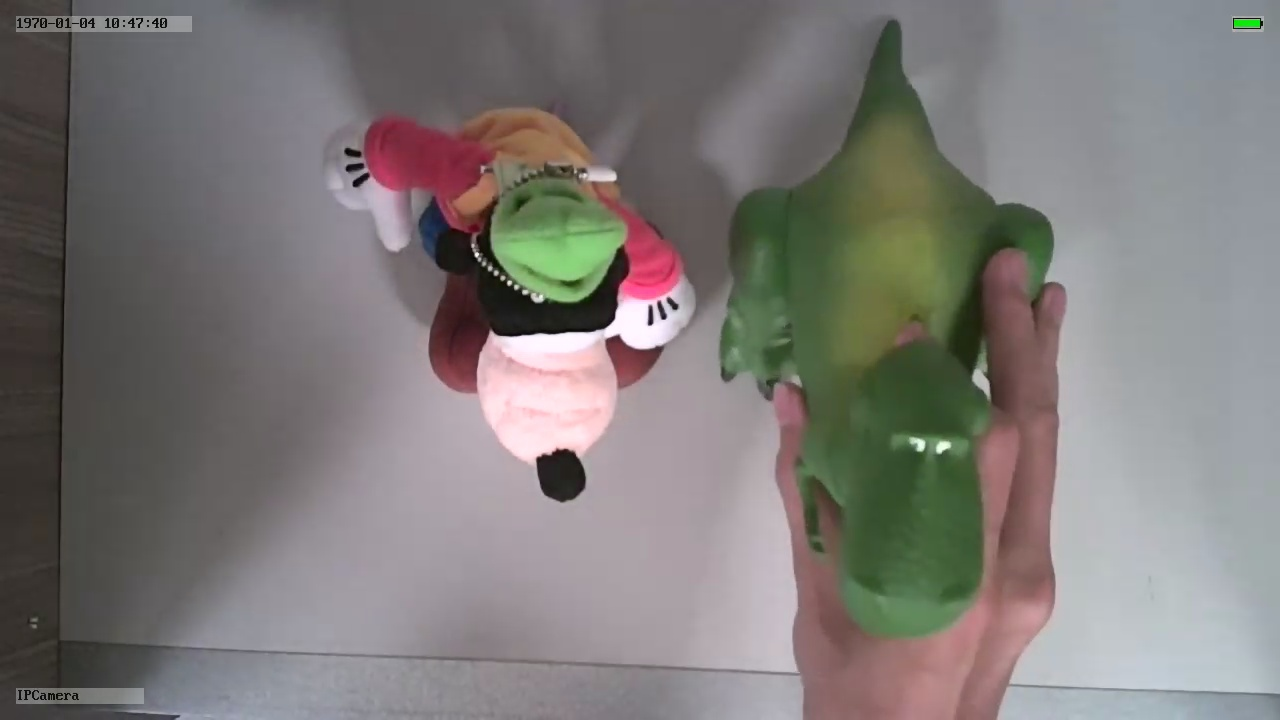goofy: (313, 101, 698, 504)
